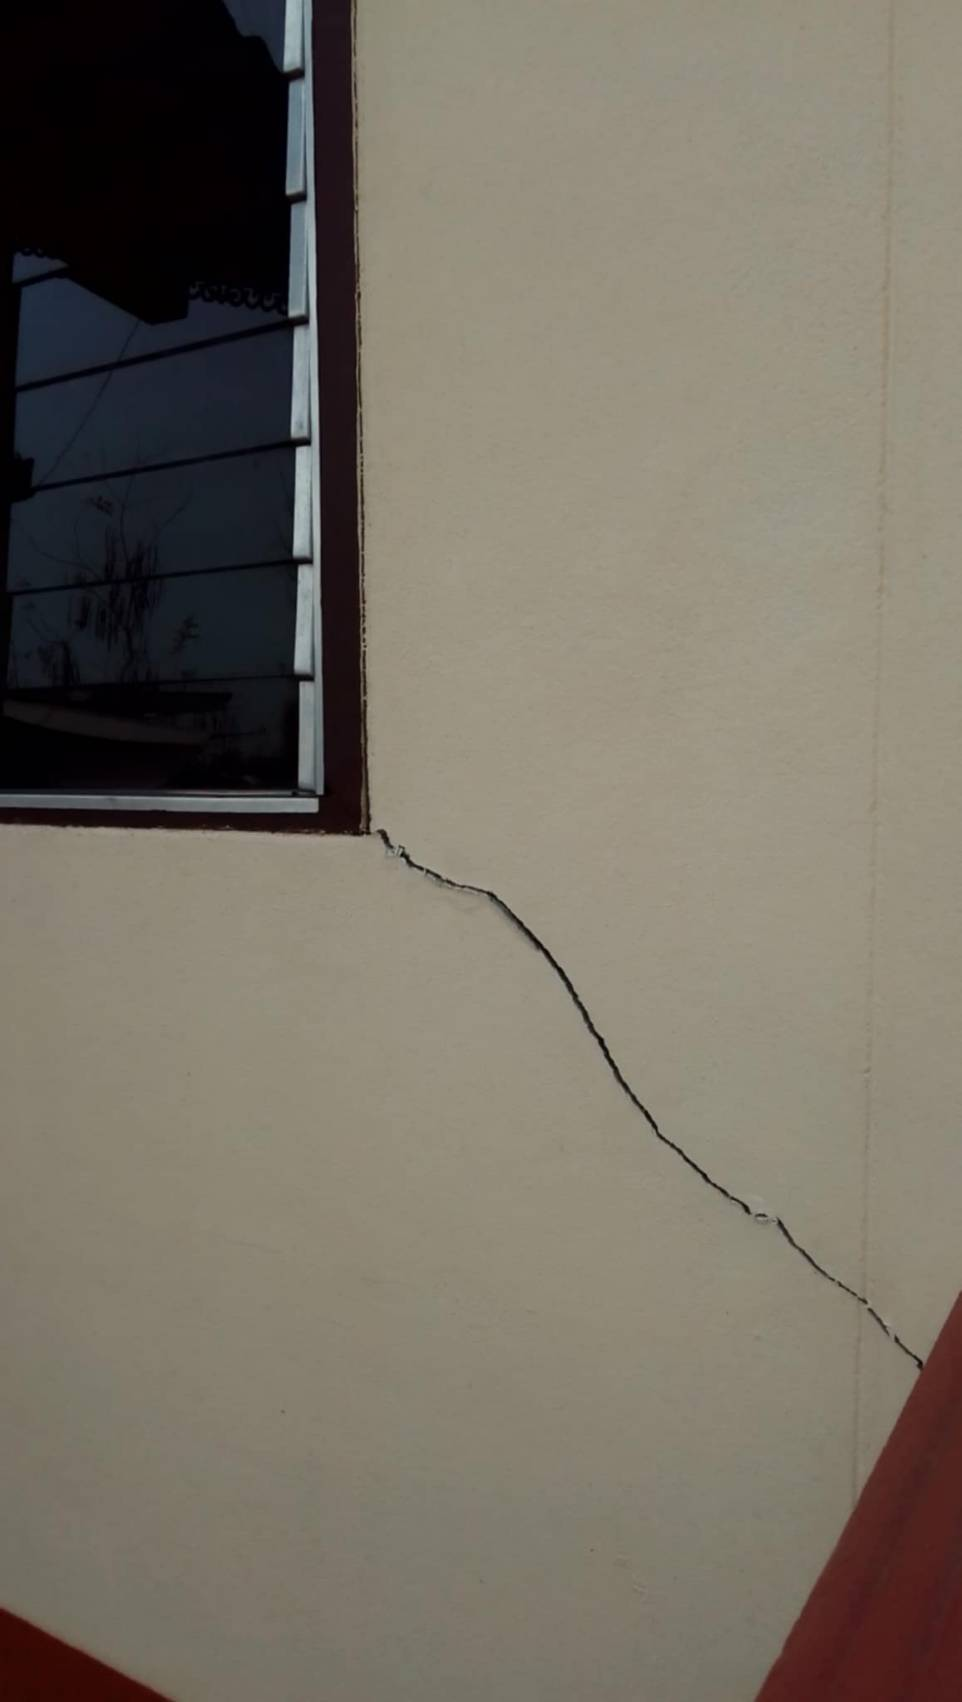Medium: (413, 825, 864, 1316)
